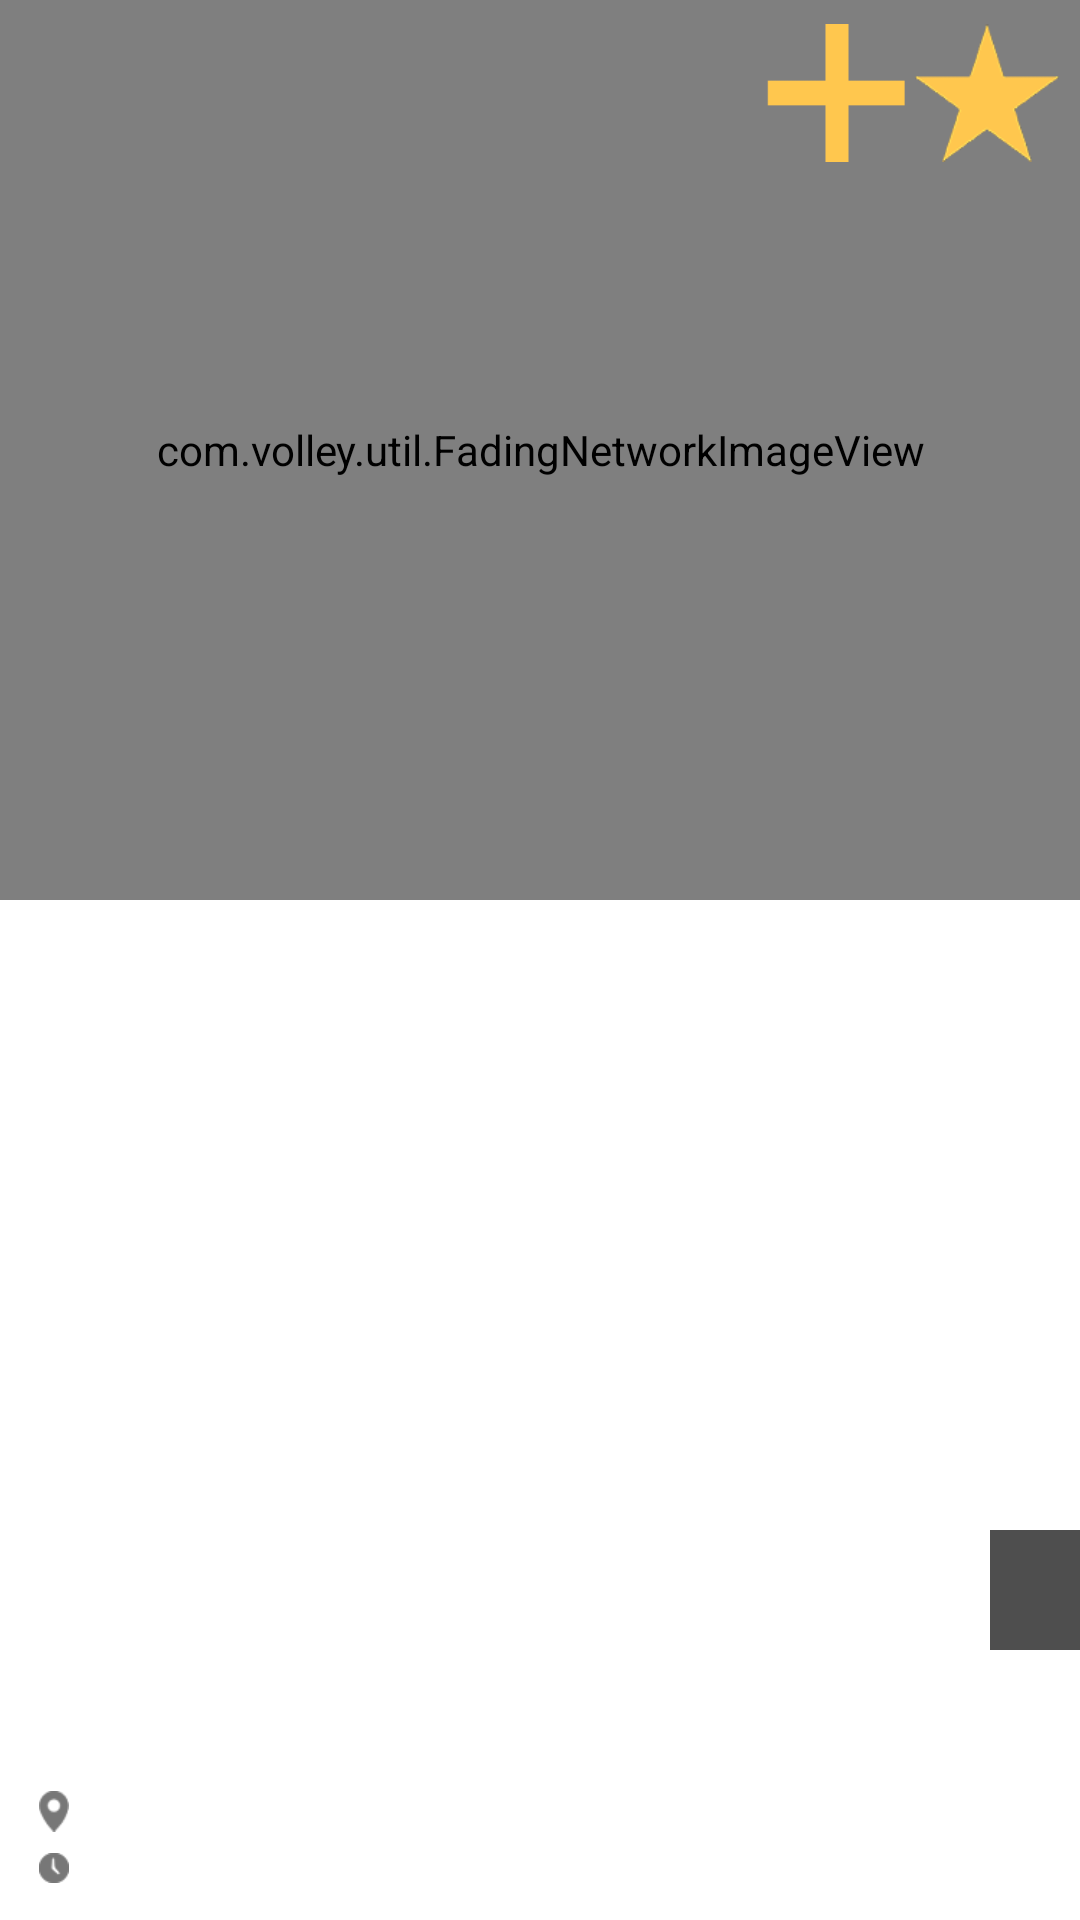

Locate icon controls on the screen. Image size 1080 x 1920, boxes as box(x1, y1, x2, y2).
locationicon: box(39, 1791, 69, 1832)
plusicon: box(767, 24, 905, 162)
staricon: box(916, 26, 1058, 162)
timeicon: box(39, 1853, 69, 1883)
